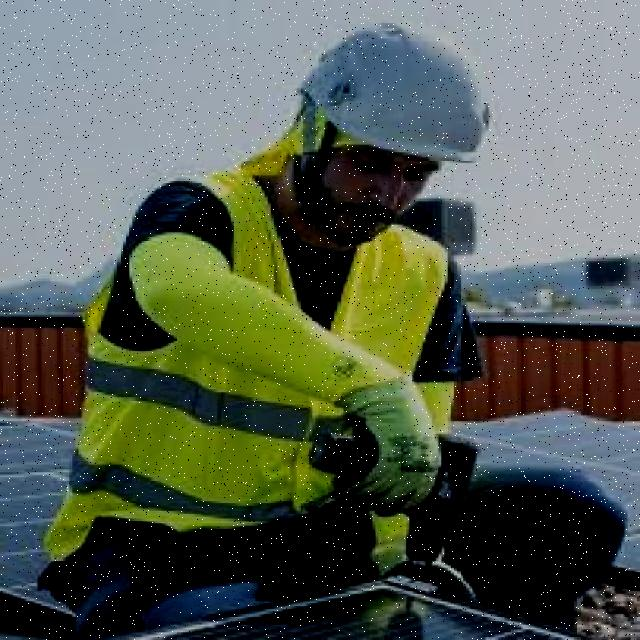Gloves: (334, 374, 436, 524)
Helmet: (303, 12, 502, 163)
Mask: (76, 168, 461, 517)
